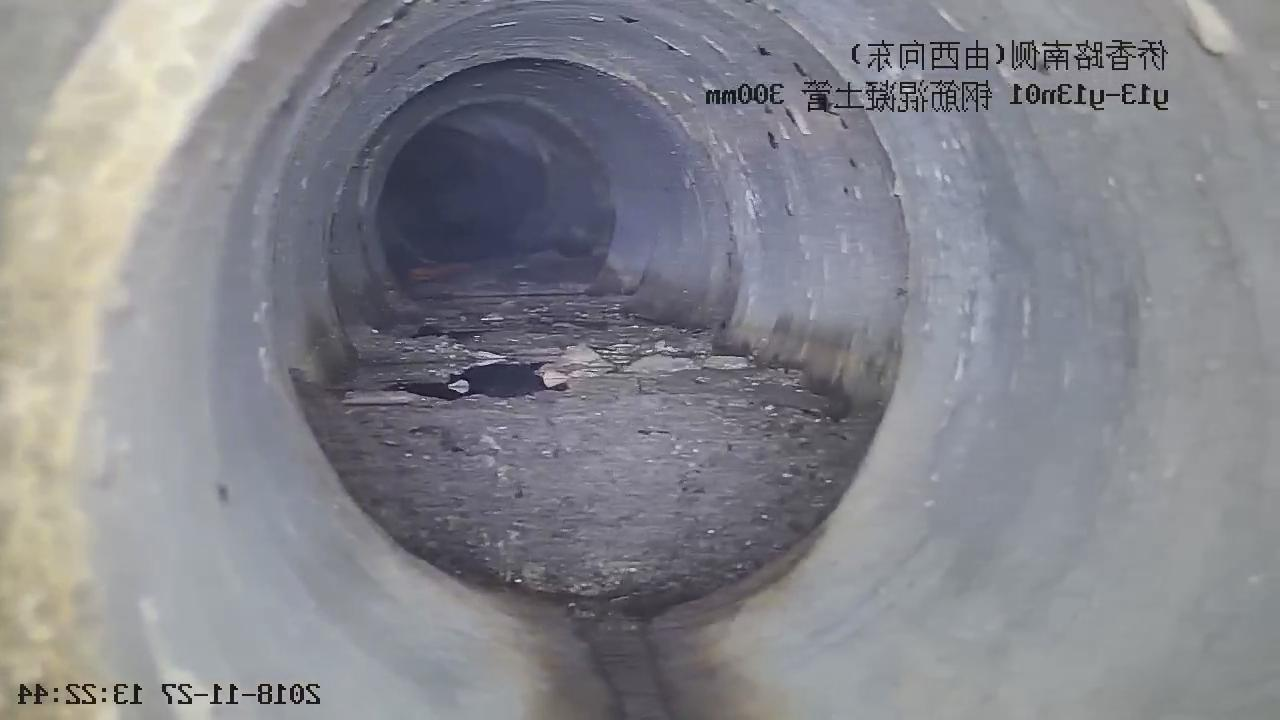CJ: (298, 251, 883, 617)
